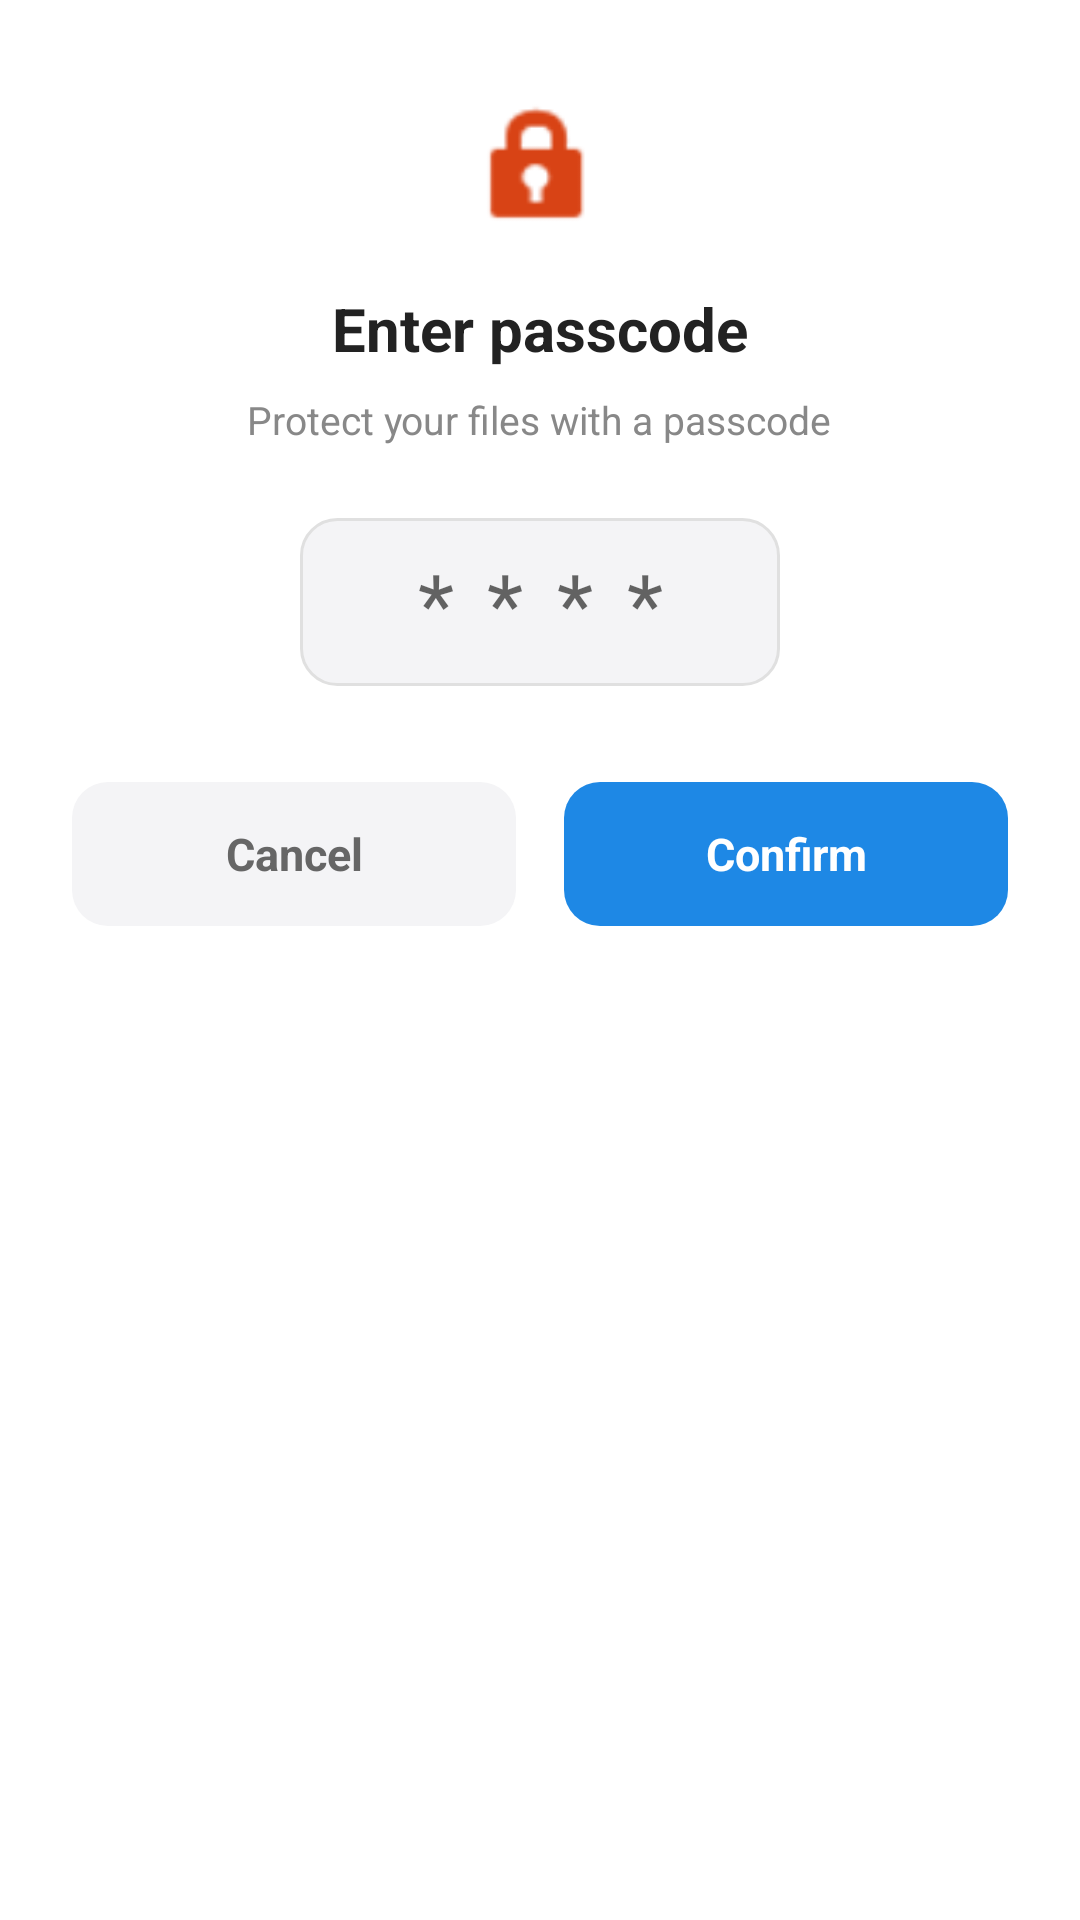

Icons on this 1080px×1920px Android screen, each with the point to tap as (x,y):
Lock: (536,163)
